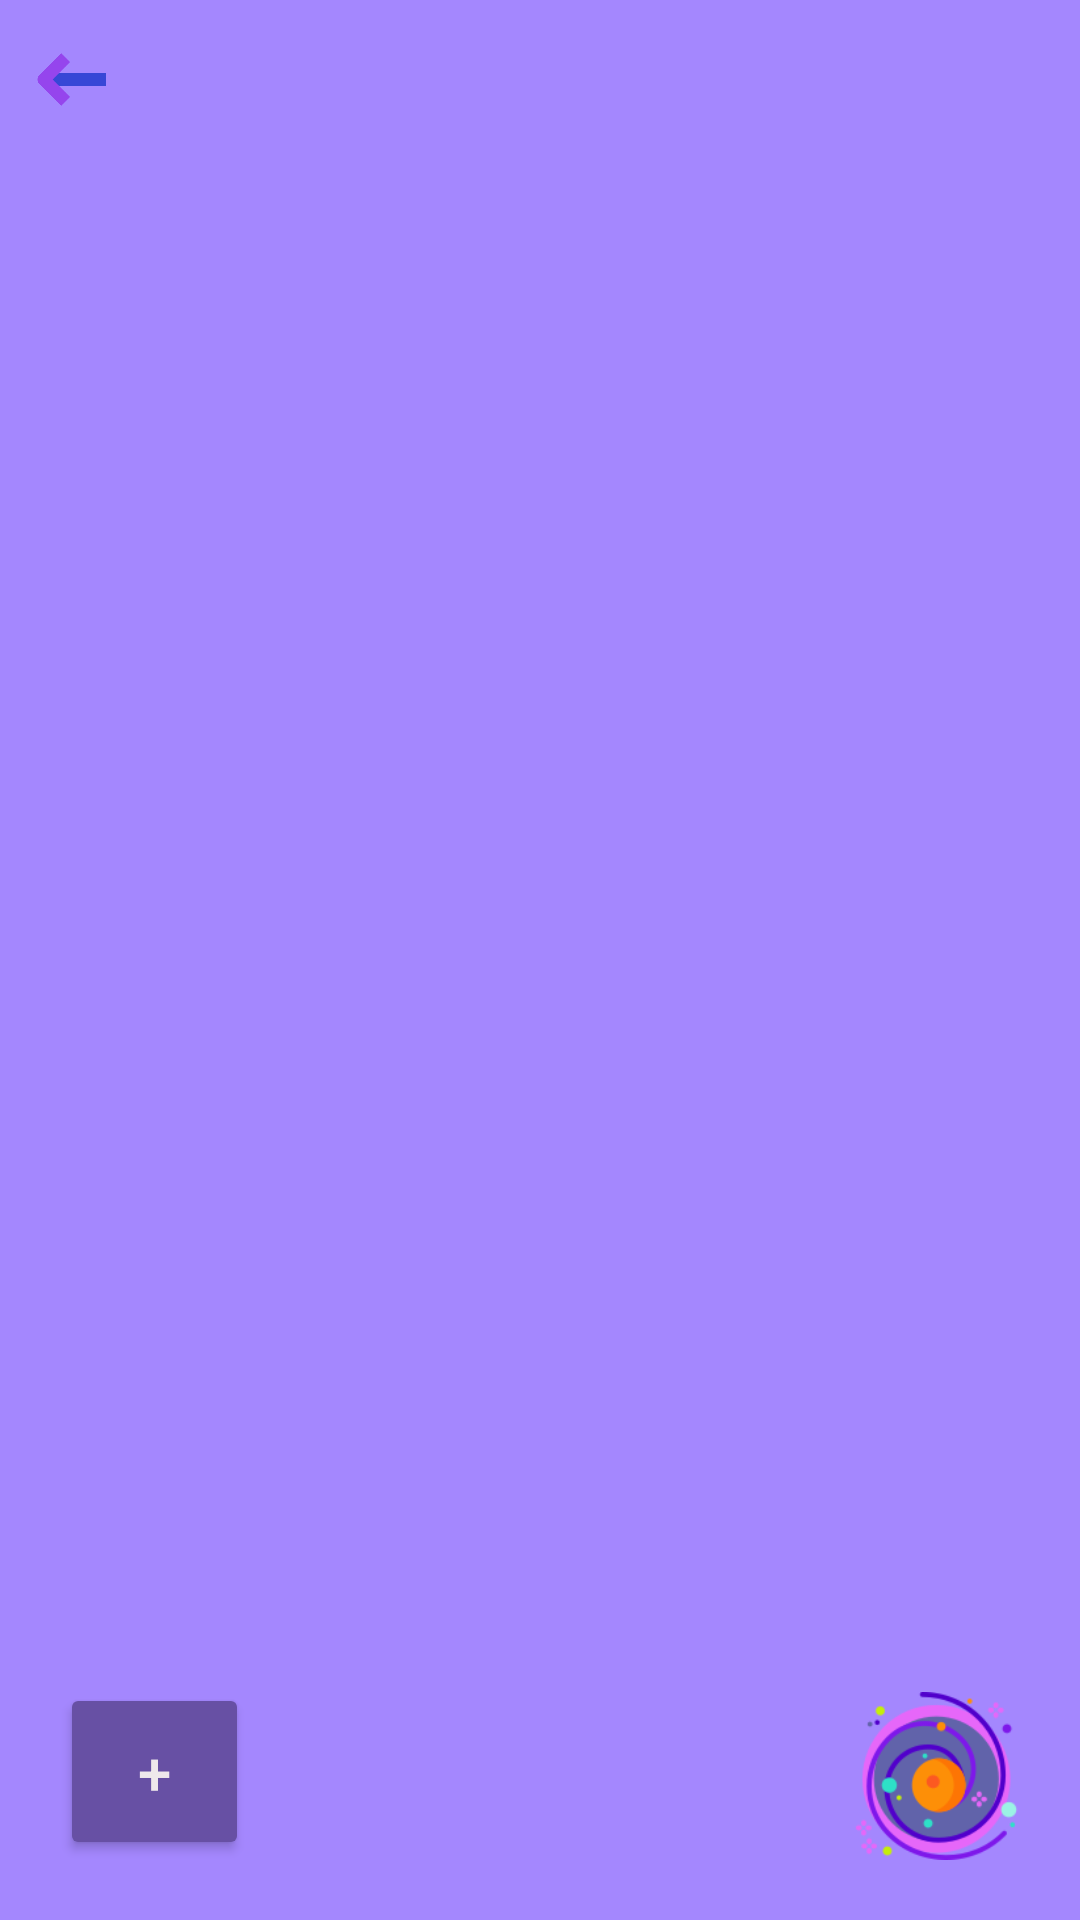

Where to tap for icons on this 1080 x 1920 app screen, as (x,y):
hole: (936,1776)
